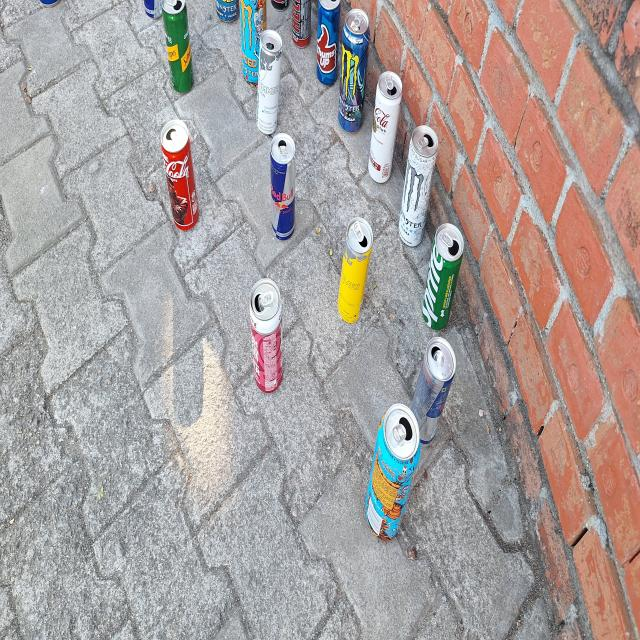Coca Cola - Marvel: (161, 119, 199, 235)
Coca Cola Plus: (369, 71, 400, 183)
Coolberg: (249, 282, 284, 394)
Hell Apple: (290, 0, 312, 48)
Hell Classic: (273, 0, 289, 8)
Monster Aussie Lemonade: (214, 0, 237, 24)
Monster LH44: (339, 10, 367, 131)
Monster Mango Loco: (366, 414, 419, 533), (237, 0, 261, 82)
Redbul: (270, 137, 295, 241), (144, 0, 161, 25)
Redbull DanceYourStyle: (423, 334, 454, 446)
Redbull Summer Edition: (255, 34, 281, 132)
Redbull Yellow Edition: (336, 220, 371, 324)
Schweppes: (162, 3, 197, 95)
Sprite: (421, 224, 466, 331)
Thums Up: (317, 2, 338, 86)
White Monster: (401, 130, 435, 250)
